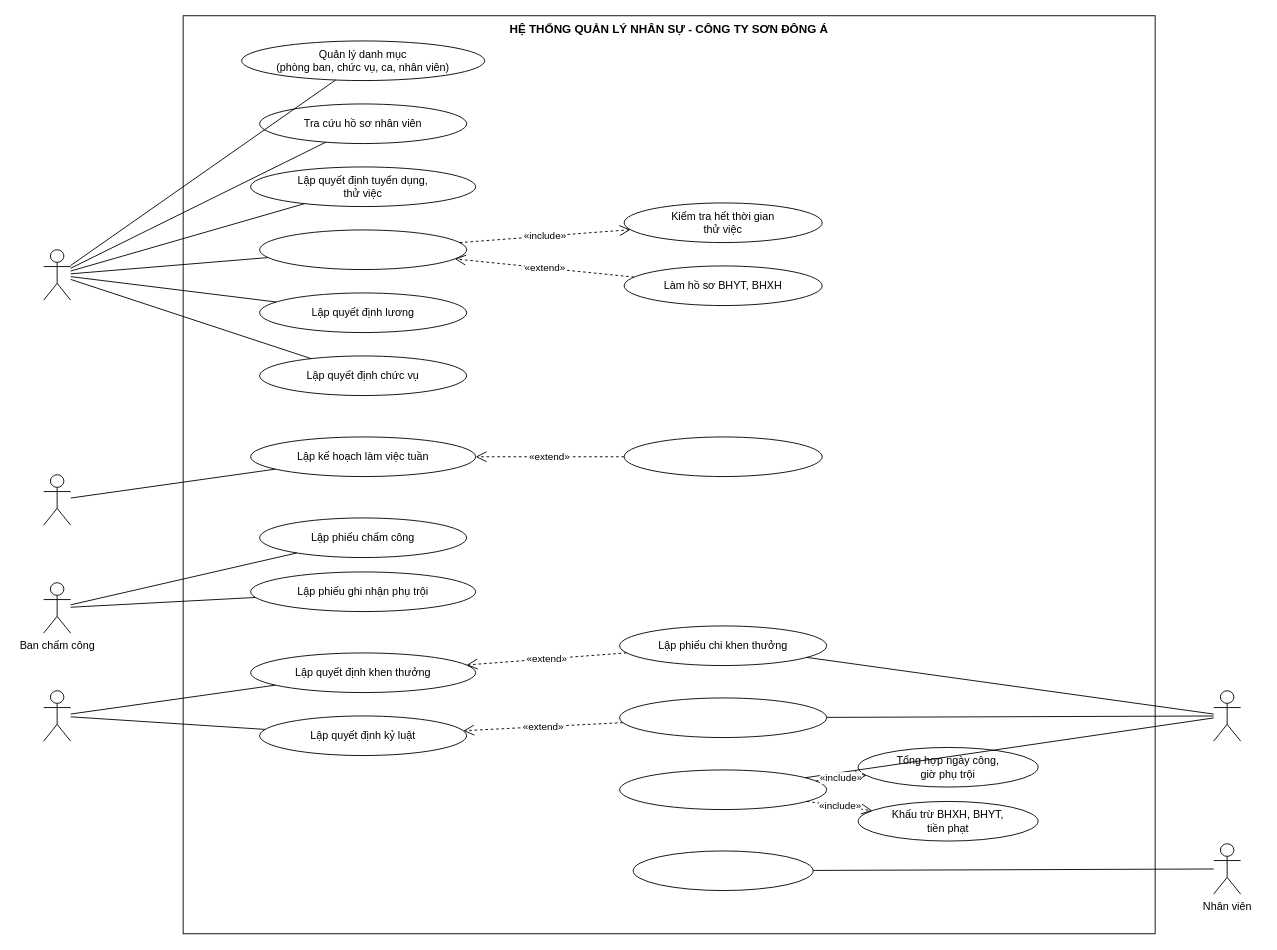
This 1277x950 diagram has some shape labels left out. The centre of each missing label's shape, as x and y in pixels:
"Giám đốc" goes at (x=57, y=715).
"Ký hợp đồng lao động" goes at (x=363, y=249).
"Kế toán lương" goes at (x=1227, y=715).
"Lập kế hoạch phụ trội" goes at (x=722, y=456).
"Lập phiếu thu nộp phạt" goes at (x=723, y=717).
"Nhân viên phòng nhân sự" goes at (x=57, y=274).
"Trưởng phòng, ban, phân xưởng" goes at (x=57, y=499).
"Tính lương hằng tháng" goes at (x=723, y=789).
"Xem phiếu lương" goes at (x=722, y=870).
